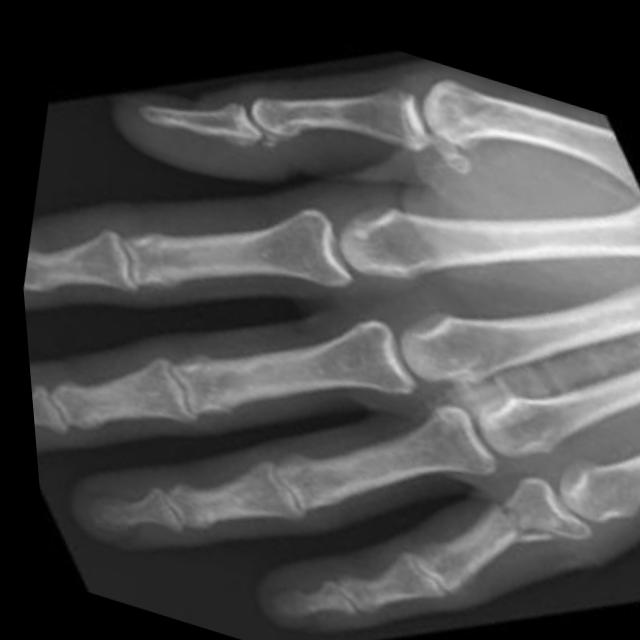fracture: (467, 476, 553, 553)
